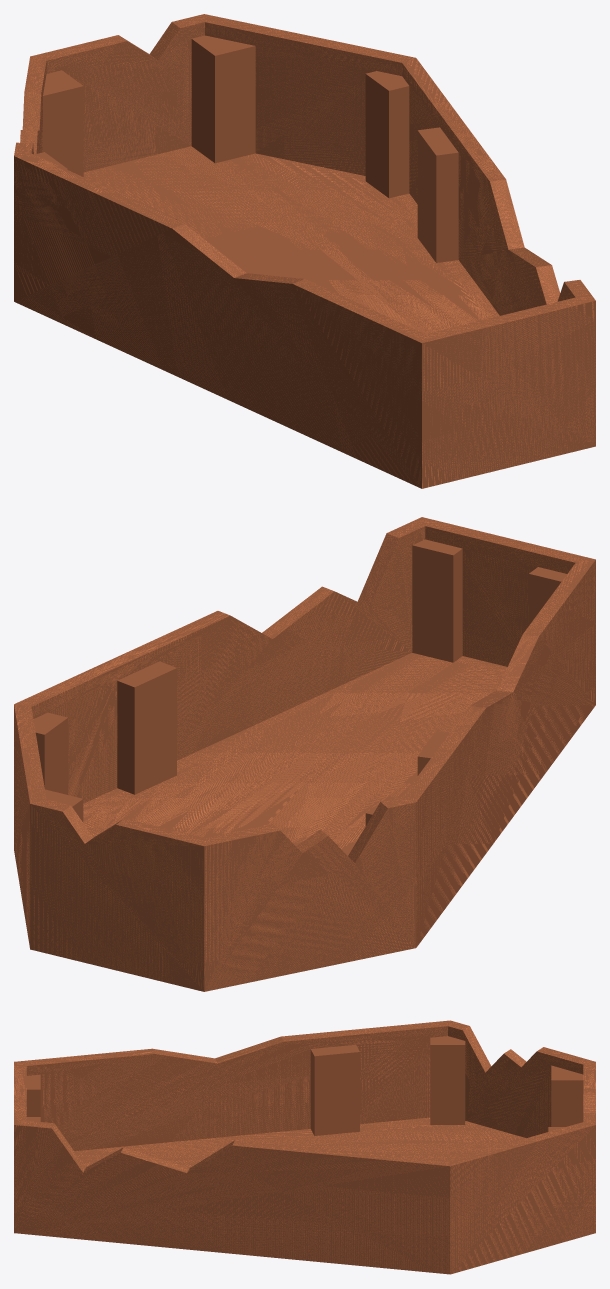
The model's file is coffinOld.obj.
3 views of the same model, one above another, from view 1: azimuth 30°, elevation 25°; view 2: azimuth 150°, elevation 25°; view 3: azimuth 270°, elevation 25° (orthographic). The views are drawn at different scales.
Parts seen in each view (by area): view 1: coffinOld; view 2: coffinOld; view 3: coffinOld.
Boxes of the visible parts, <box> form: coffinOld: <box>14,14,595,488</box>; coffinOld: <box>14,517,595,991</box>; coffinOld: <box>14,1020,595,1274</box>.
Size of the model in its own units: 0.5928 by 0.2052 by 1.
